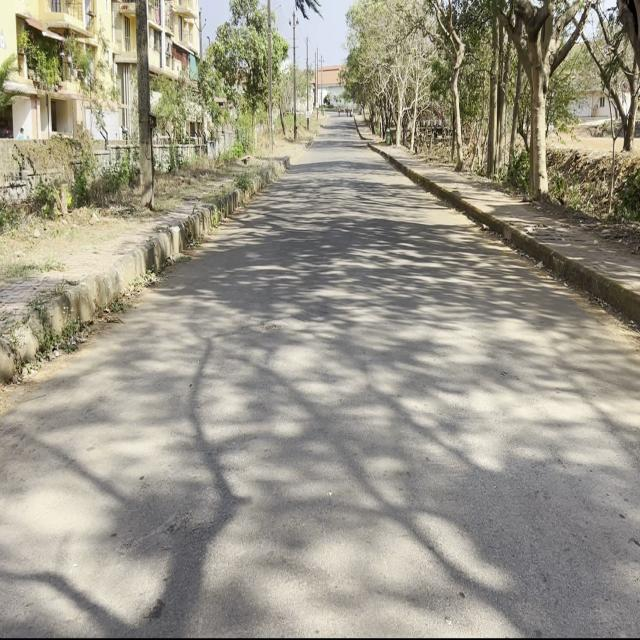Road: (5, 116, 638, 635)
